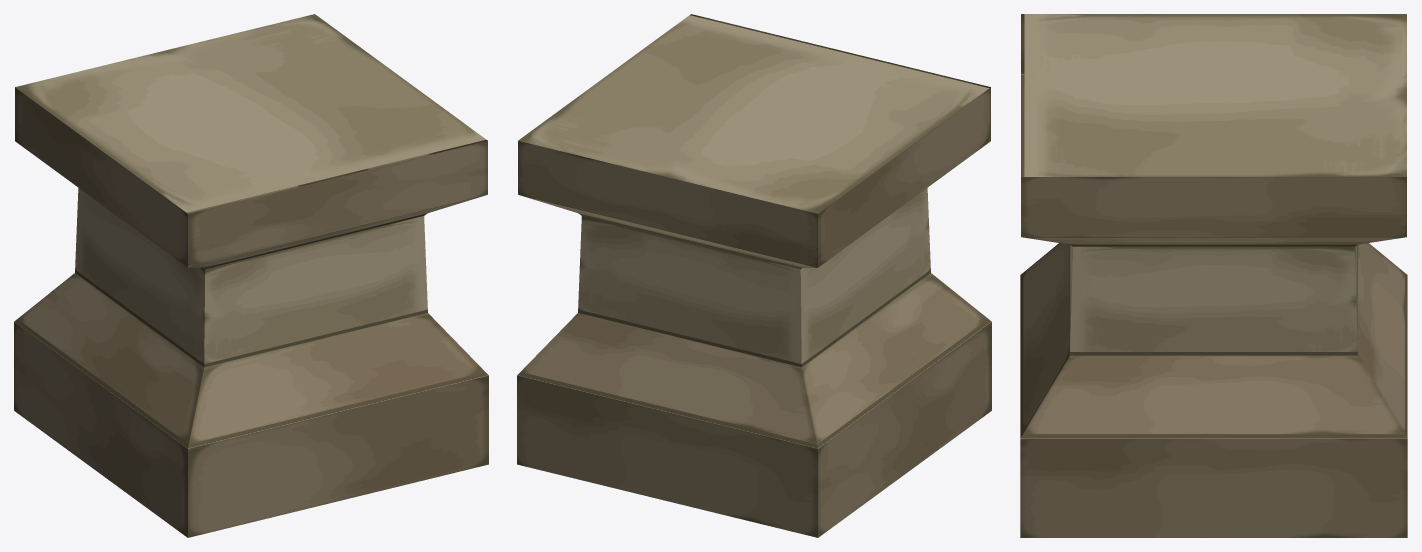
File: Fire_Pilar.fbx
3 views of the same model, side by side, from view 1: azimuth 30°, elevation 25°; view 2: azimuth 150°, elevation 25°; view 3: azimuth 270°, elevation 25° (orthographic). The views are drawn at different scales.
Visible parts, largest first — view 1: Fire_Pilar; view 2: Fire_Pilar; view 3: Fire_Pilar.
Boxes of the visible parts, x1,y1,x2,y2 form: Fire_Pilar: [14, 14, 488, 537]; Fire_Pilar: [517, 14, 991, 537]; Fire_Pilar: [1020, 14, 1407, 537].
Size of the model in its own units: 146 by 150 by 146.
Materials: 1 (1 with a texture image).
